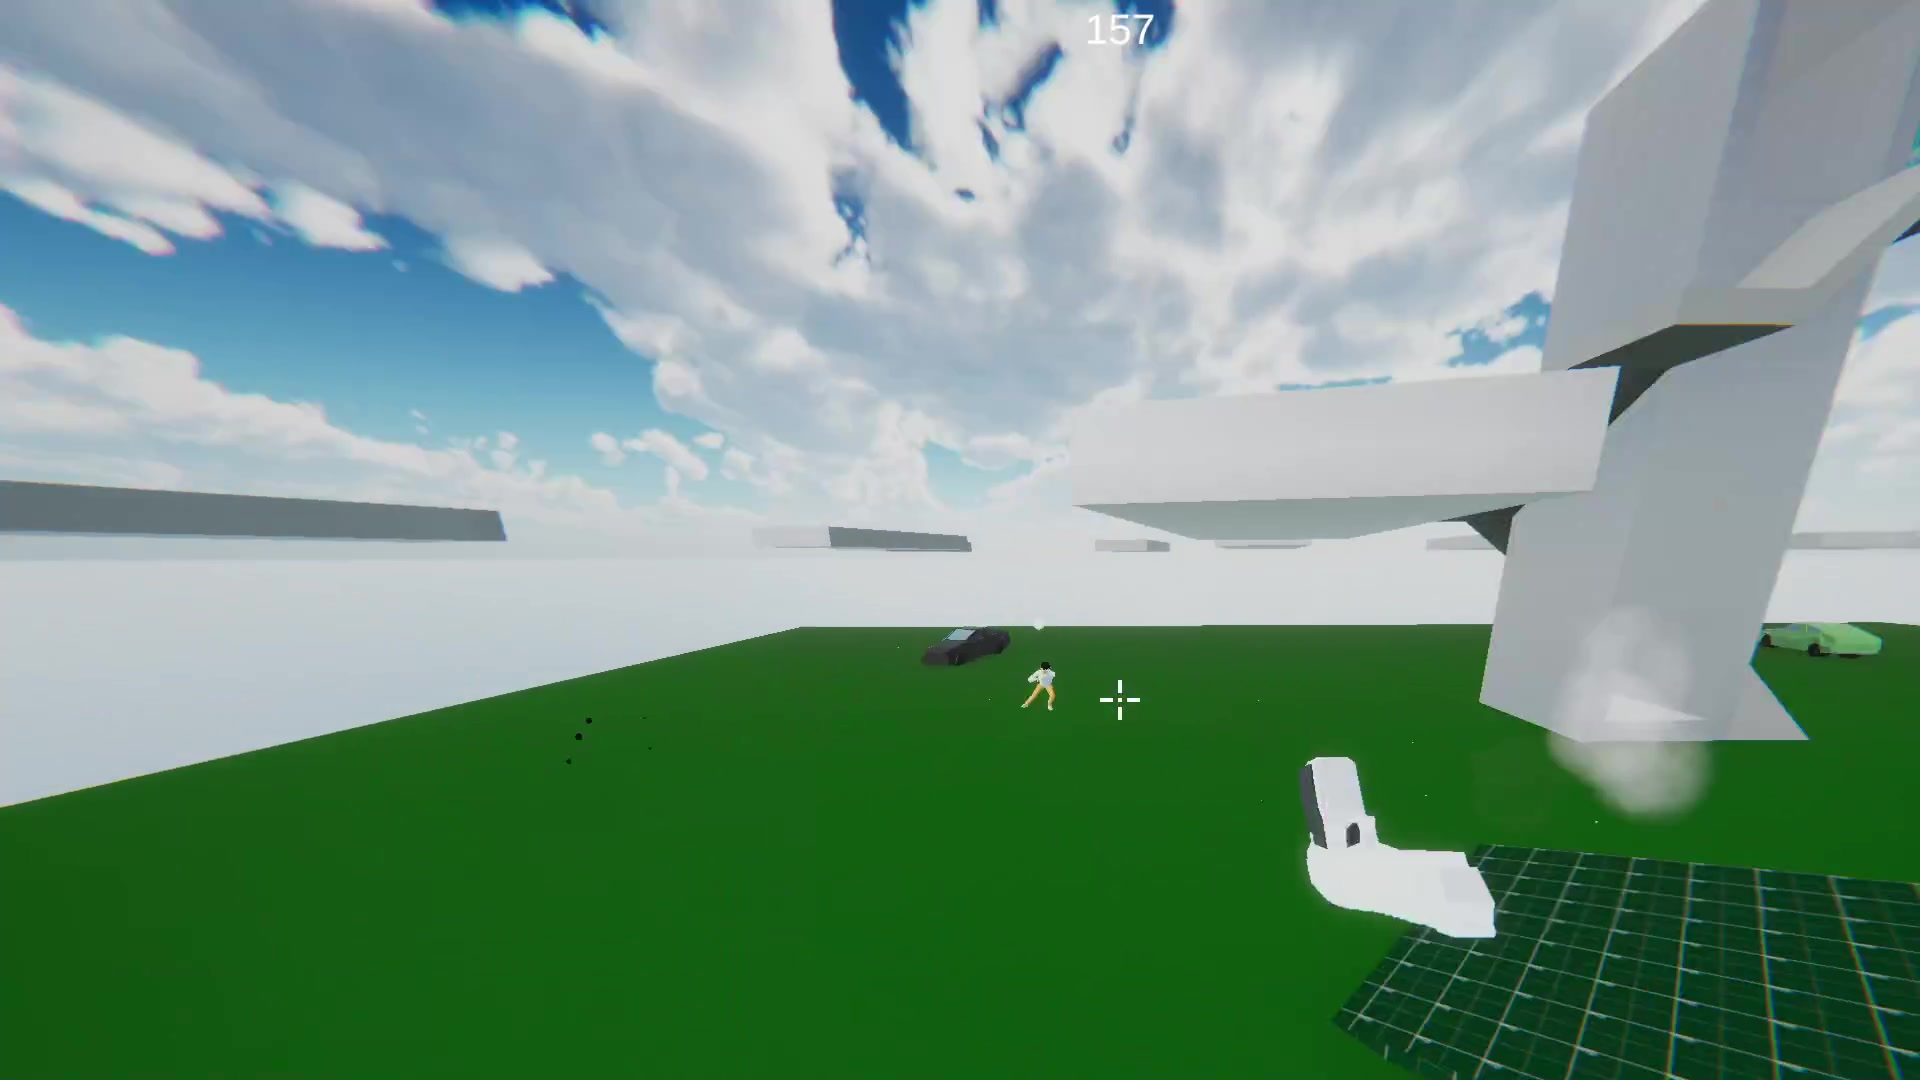human: (1028, 665, 1060, 716)
